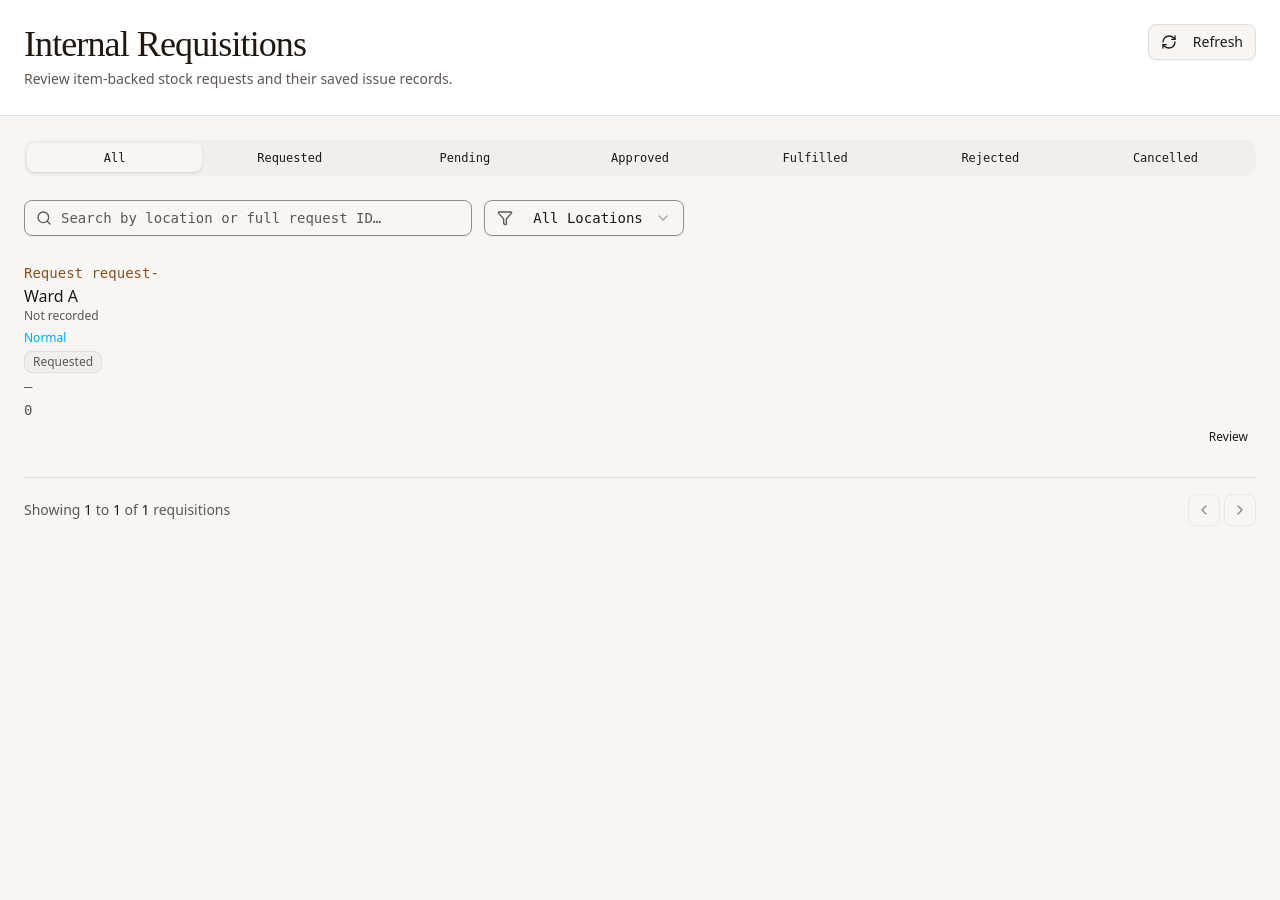
Test: standing orders through the active generated-client pages › keeps historical header-only requests read-only
Click the button "Review": {"x": 1228, "y": 437} [1201,421,1256,453]
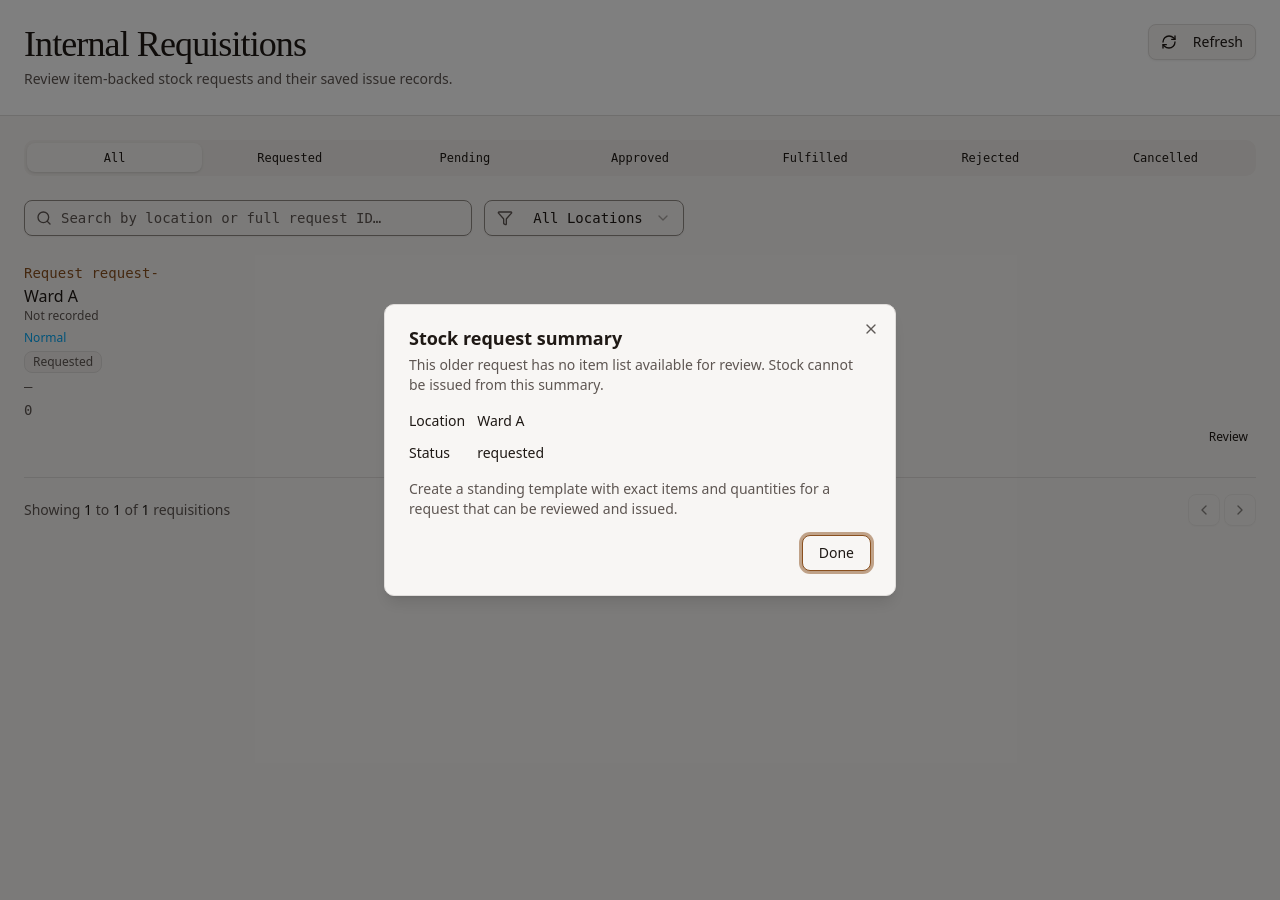
Check: the text "older request has no item list" is shown, box [409,355,853,394]
